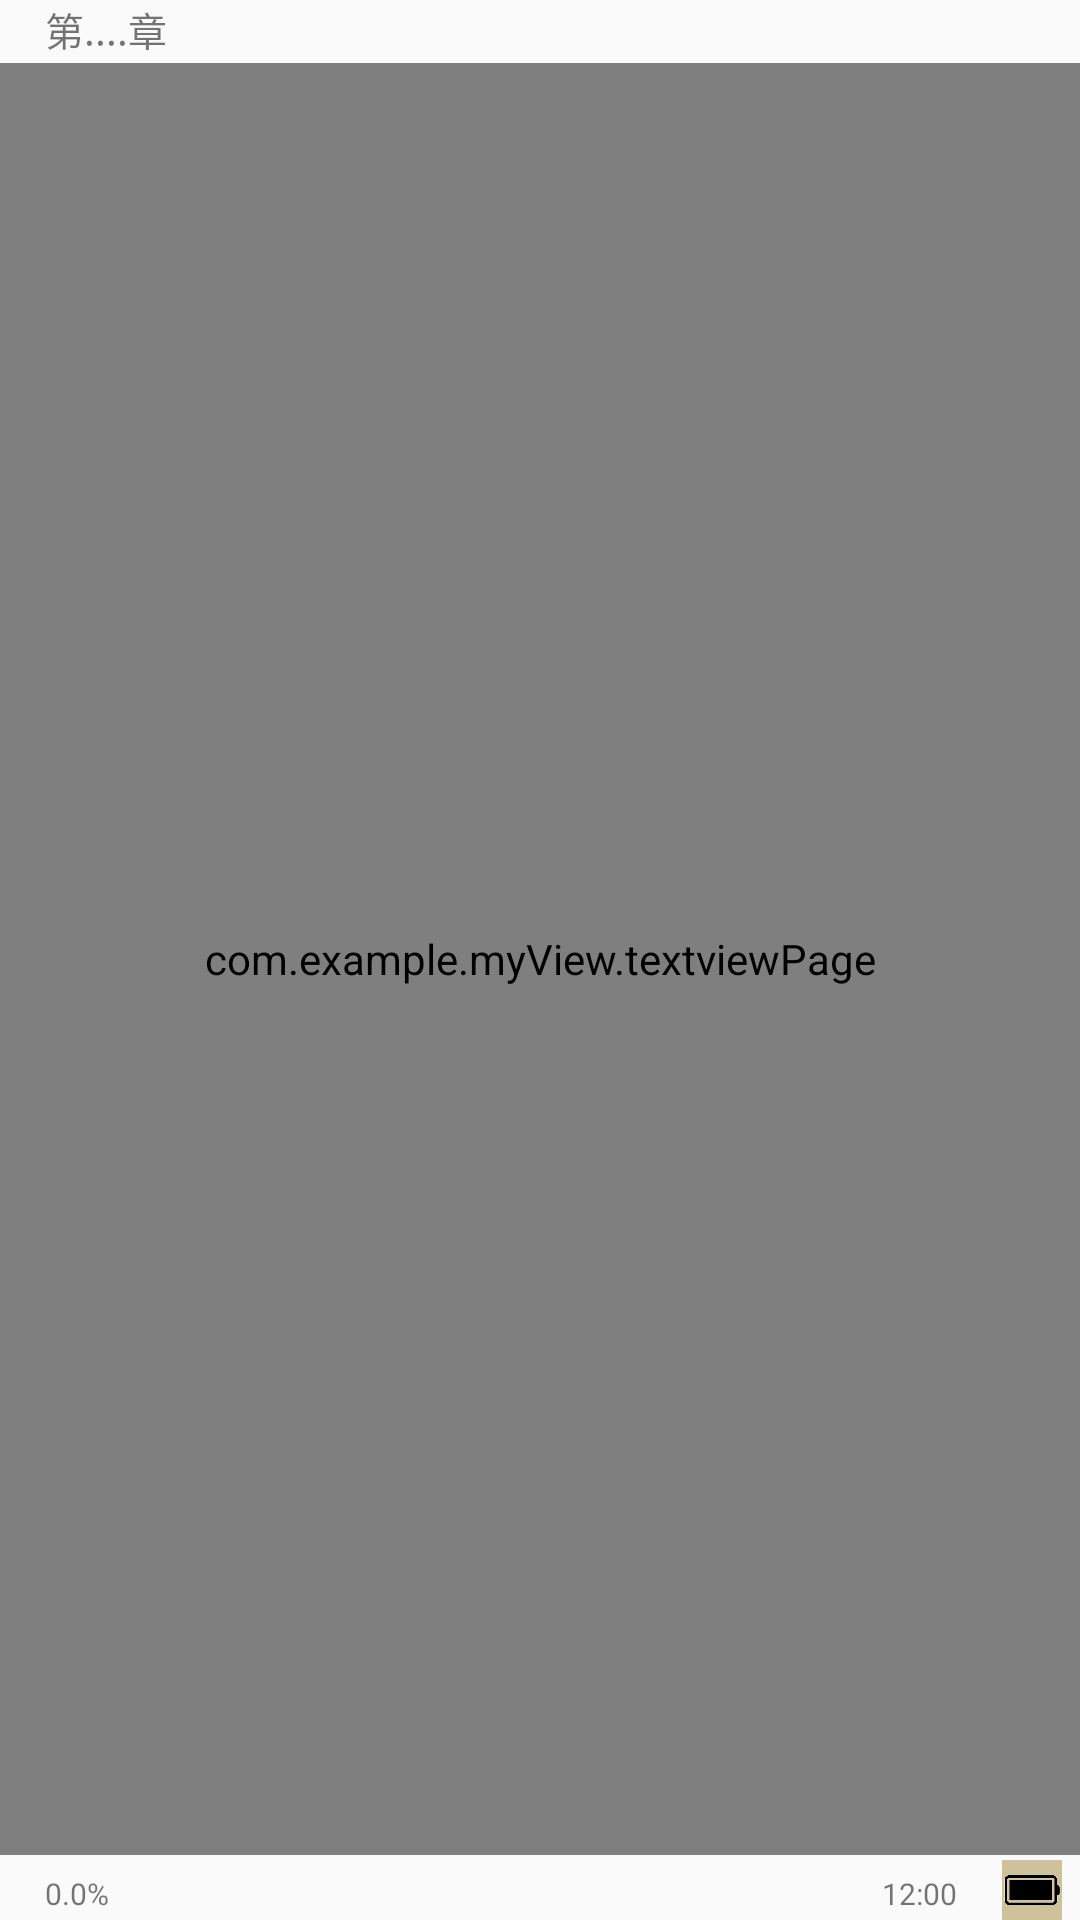

Screen size 1080w x 1920h. Icon name, then its center in pixels as point (x, y):
battery full: point (1032, 1890)
